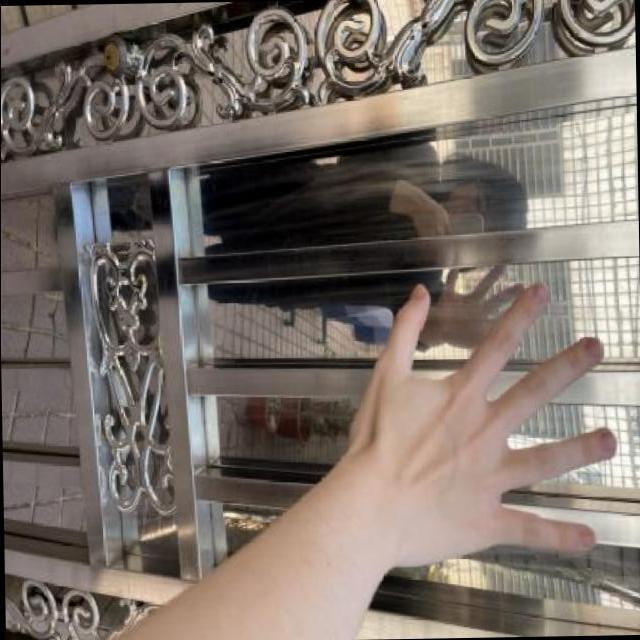hand: (306, 274, 622, 640)
